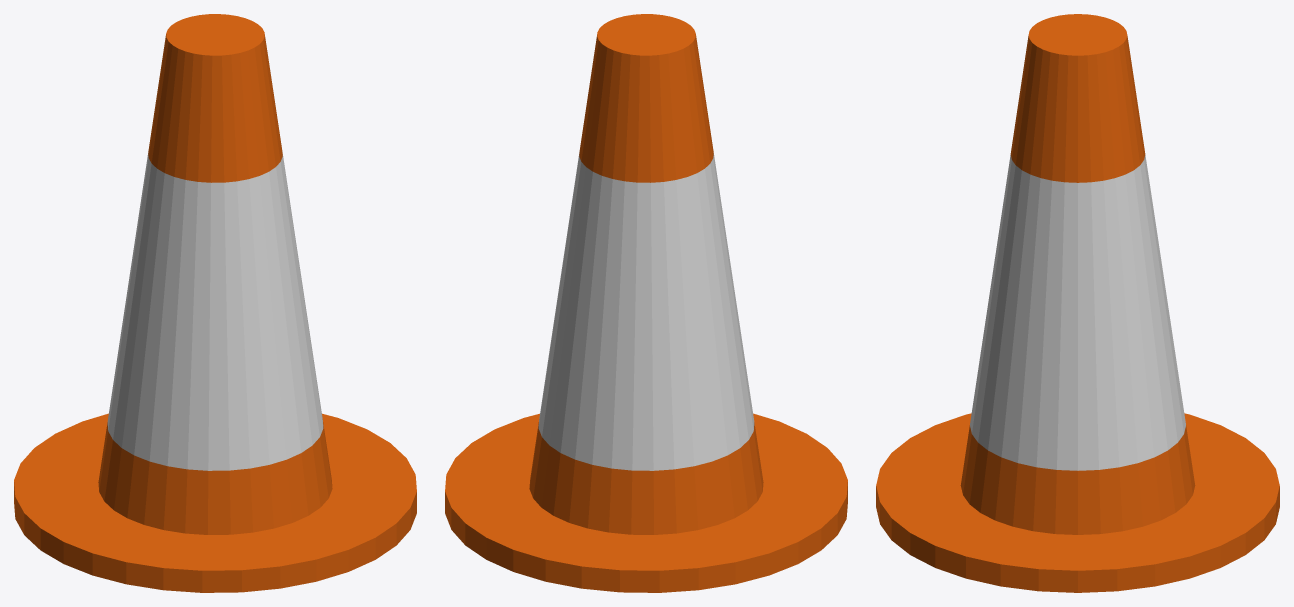
File: lwpltrfccon8.fbx
3 views of the same model, side by side, from view 1: azimuth 30°, elevation 25°; view 2: azimuth 150°, elevation 25°; view 3: azimuth 270°, elevation 25° (orthographic).
Parts seen in each view (by area): view 1: Cylinder.007; view 2: Cylinder.007; view 3: Cylinder.007.
Part boxes in pixels (x1,y1,x2,y2): Cylinder.007: [14, 14, 416, 592]; Cylinder.007: [445, 14, 847, 592]; Cylinder.007: [876, 14, 1279, 592].
Size of the model in its own units: 2.21 by 2.85 by 2.21.
